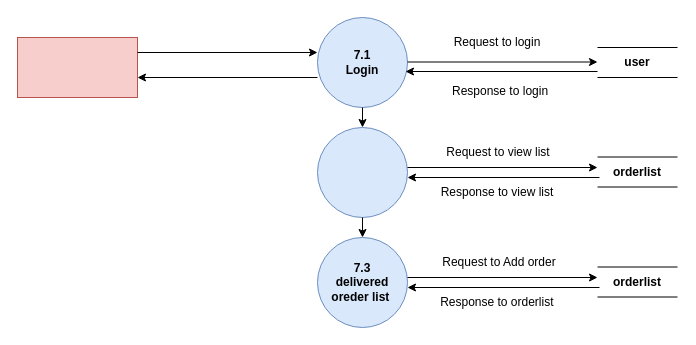
The diagram is 696 pixels wide and 345 high, and some of its shapes have lost their labels. Each missing label, with the box of its shape:
7.2 View order List: (316, 126, 408, 218)
Admin: (16, 36, 138, 98)
